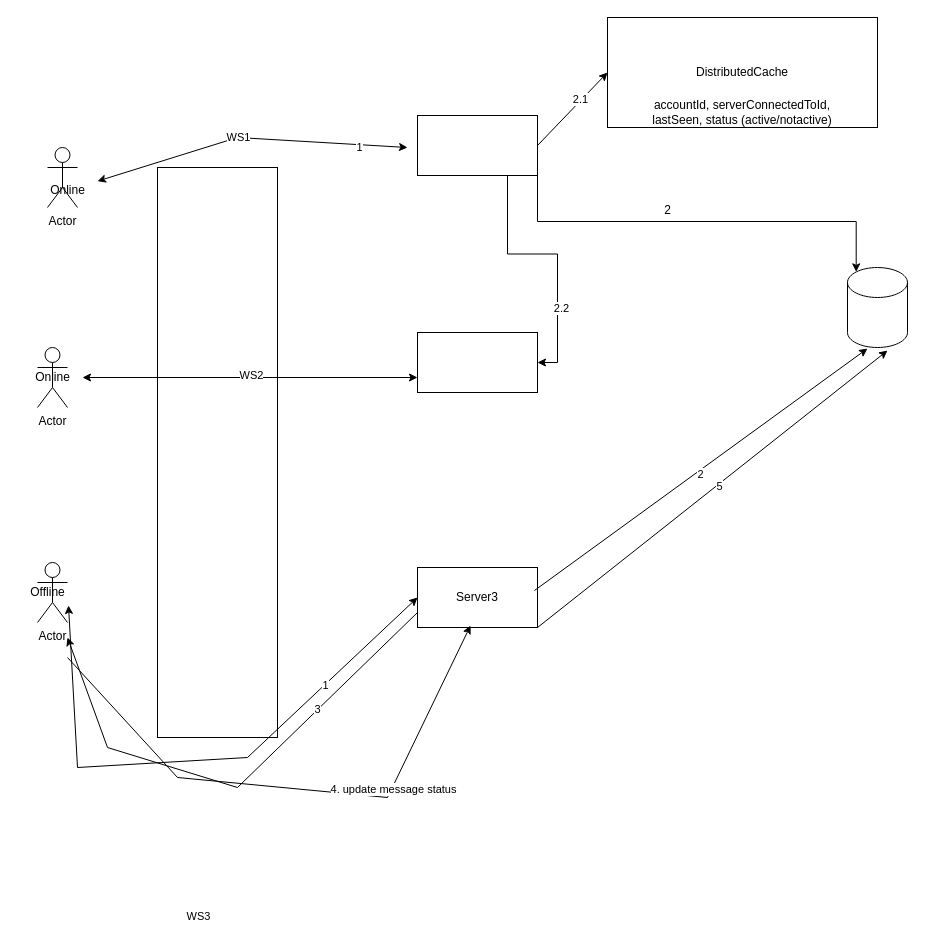
Some shapes in this 925 by 941 pixel diagram are drawn without their labels. The box of each missing label's shape, as (x1, y1, x2, y2) in pixels:
LB: (156, 166, 278, 738)
Server1: (416, 114, 538, 176)
Server2: (416, 332, 538, 392)
